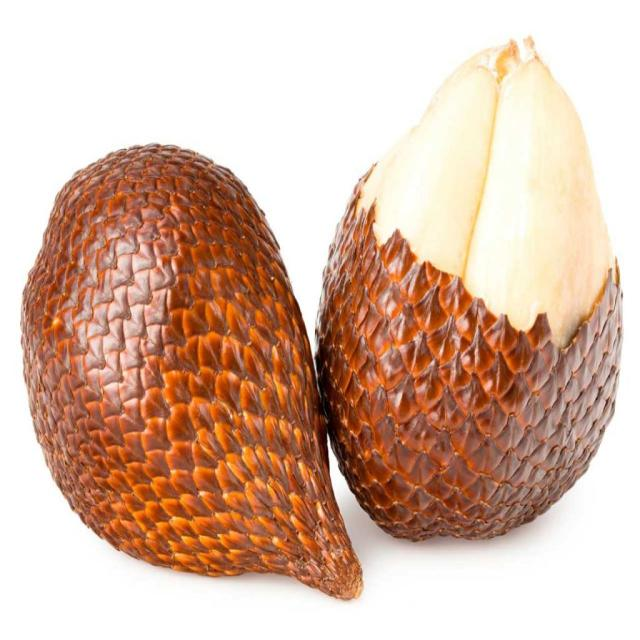fruit: (8, 11, 636, 624)
